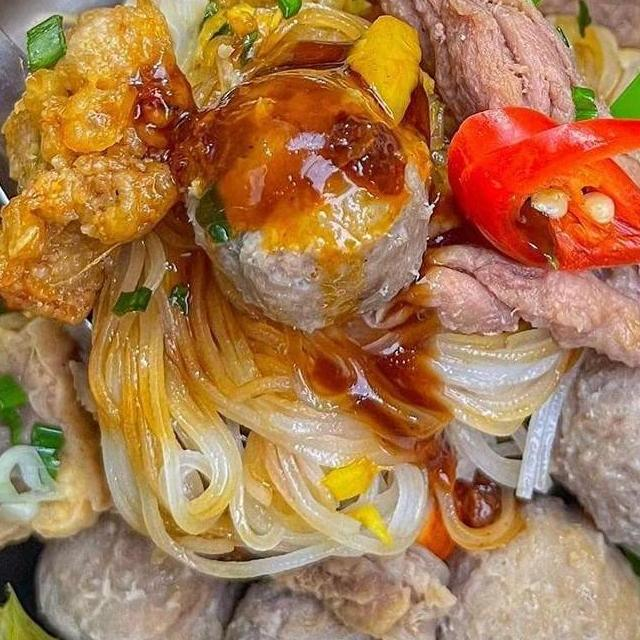banh hu tieu: (73, 179, 599, 588)
dau hu: (0, 297, 121, 564)
hu tieu: (0, 0, 640, 640)
thit heo: (363, 0, 640, 387)
